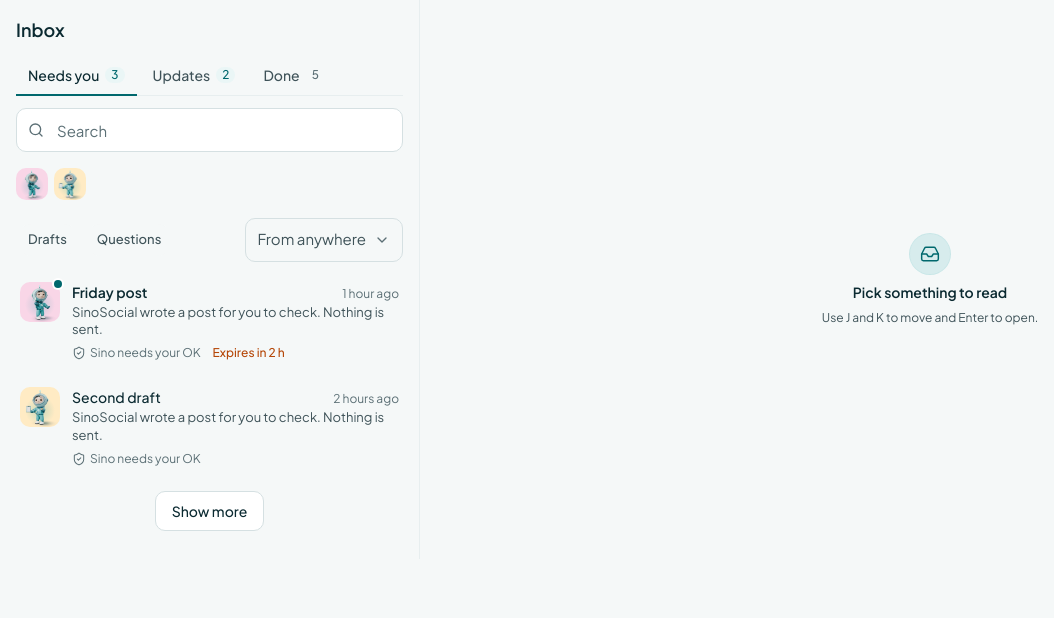
Scenario: the list › loads the next page into the same list without leaving it
This screenshot has width=1054, height=618.
Click the button "Show more": (210, 511) [155,491,264,531]
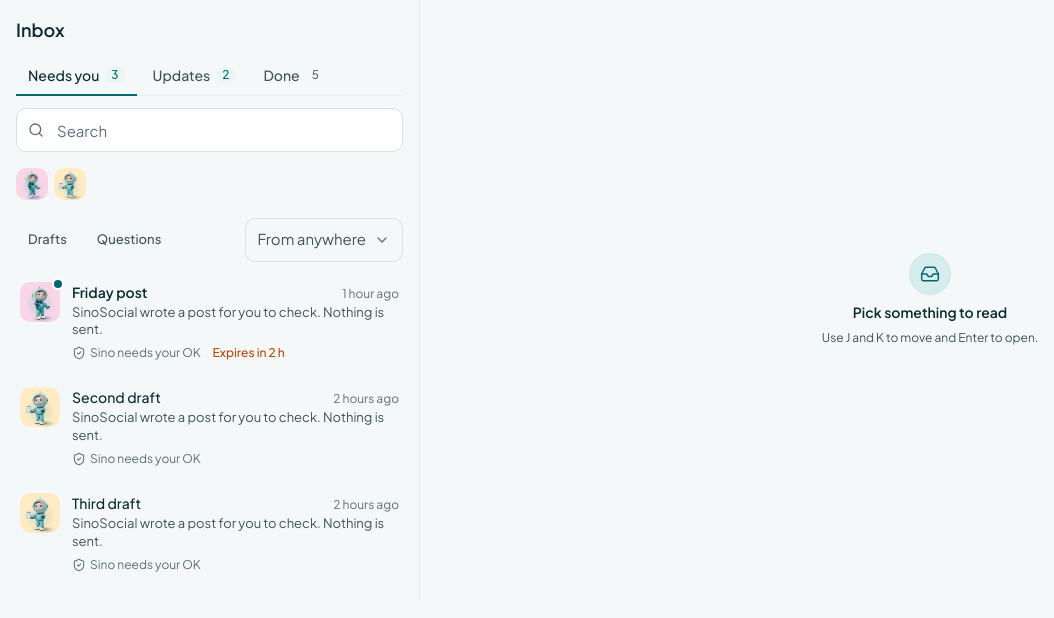
Check: the button "Friday post" is shown, box [8,270,411,373]
Check: the button "Third draft" is shown, box [8,481,411,585]
